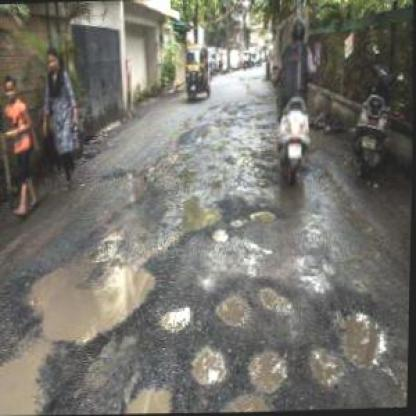pothole: (22, 244, 160, 345), (327, 295, 394, 372), (159, 185, 226, 242), (0, 342, 53, 414), (122, 374, 176, 412), (248, 344, 290, 391), (190, 341, 229, 383), (310, 342, 346, 386), (255, 278, 294, 318), (213, 288, 254, 324), (218, 390, 273, 412), (161, 304, 194, 330), (249, 205, 278, 223), (212, 226, 232, 243), (229, 218, 244, 227)
